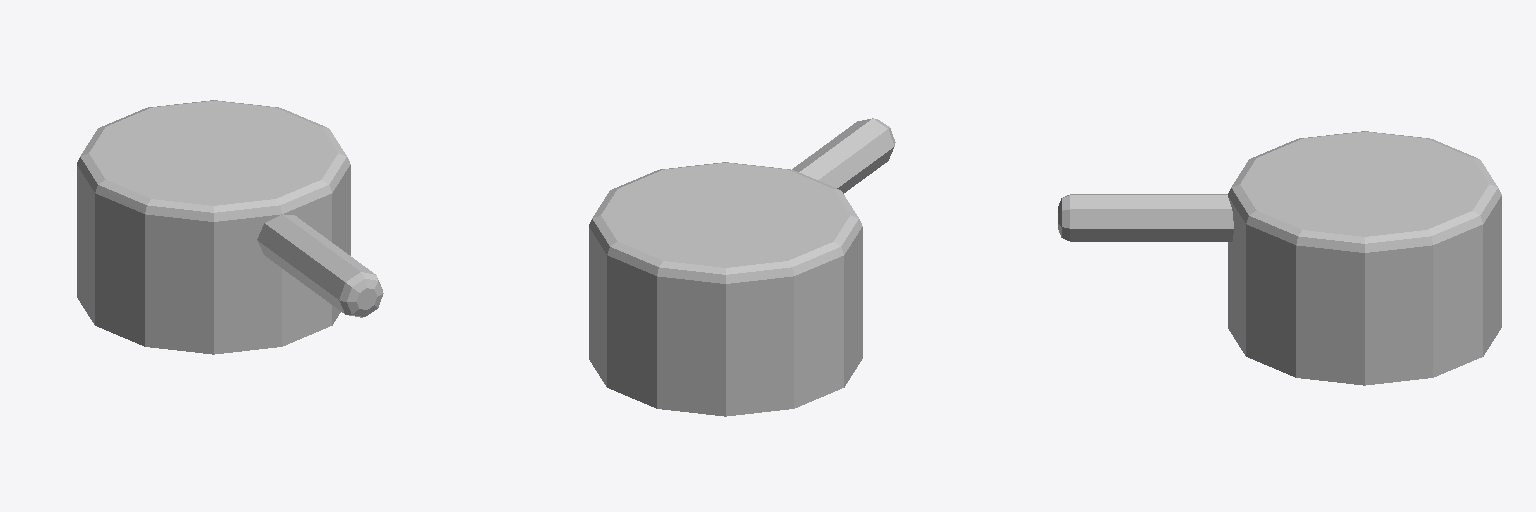
3 views of the same model, side by side, from view 1: azimuth 30°, elevation 25°; view 2: azimuth 150°, elevation 25°; view 3: azimuth 270°, elevation 25° (orthographic).
Visible parts, largest first — view 1: part9:faucet handle 1; view 2: part9:faucet handle 1; view 3: part9:faucet handle 1.
Boxes of the visible parts, box(x1,y1,x2,y2) form: part9:faucet handle 1: box(77, 100, 383, 354); part9:faucet handle 1: box(589, 118, 895, 416); part9:faucet handle 1: box(1058, 131, 1501, 385).
Bounding box in the file's own units: 0.0342 × 0.0197 × 0.0553.